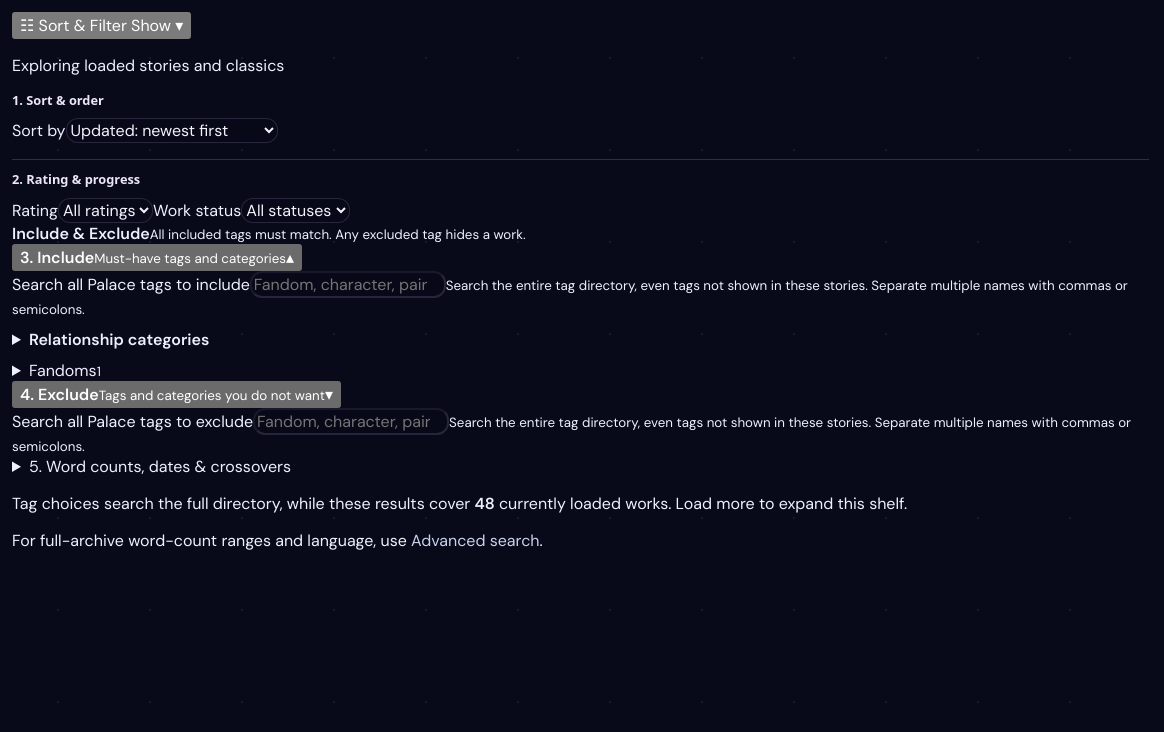
Scenario: exposes the measured dock clearance to the results footer
What coordinates should you click on to do the following:
click the button with aria-label "Open Sort & Filter"
I would click on:
 (102, 26)
Its box is left=12, top=12, right=191, bottom=39.
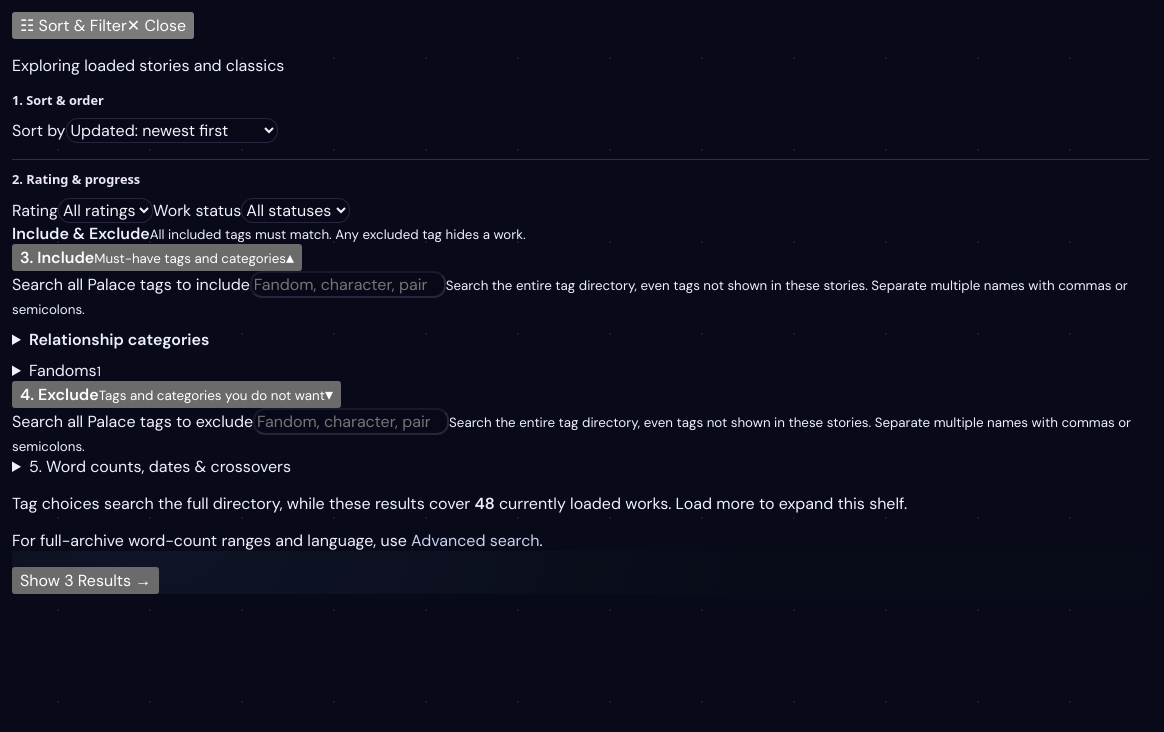
Expected: the element with class "reading-filter-mobile-result-action" is shown, left=12, top=567, right=159, bottom=594
